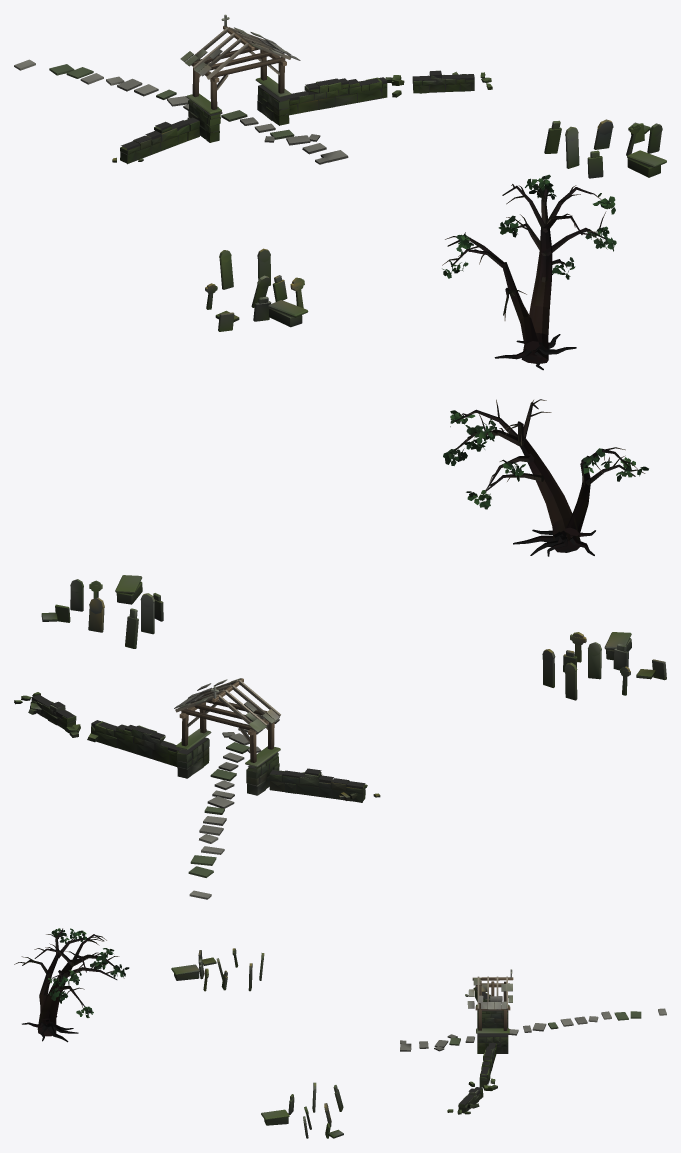
Rendered from hollow_crypt_entrance_props.glb.
The picture shows the model from 3 angles, top to bottom: view 1: azimuth 30°, elevation 25°; view 2: azimuth 150°, elevation 25°; view 3: azimuth 270°, elevation 25°; orthographic projection. The views are drawn at different scales.
Visible parts, largest first — view 1: Entrance_Outside; view 2: Entrance_Outside; view 3: Entrance_Outside.
Part boxes in pixels (bbox=[...]): Entrance_Outside: bbox=[14, 14, 666, 370]; Entrance_Outside: bbox=[14, 399, 666, 899]; Entrance_Outside: bbox=[14, 928, 666, 1138].
Size of the model in its own units: 35.77 by 10.08 by 54.63.
